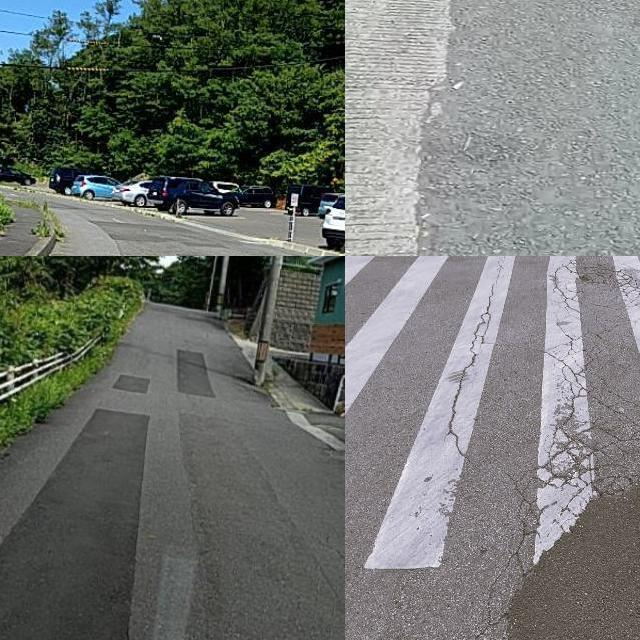Sambungan: (0, 409, 148, 640), (345, 0, 448, 256), (513, 480, 640, 640), (175, 348, 215, 395), (105, 374, 149, 395)
